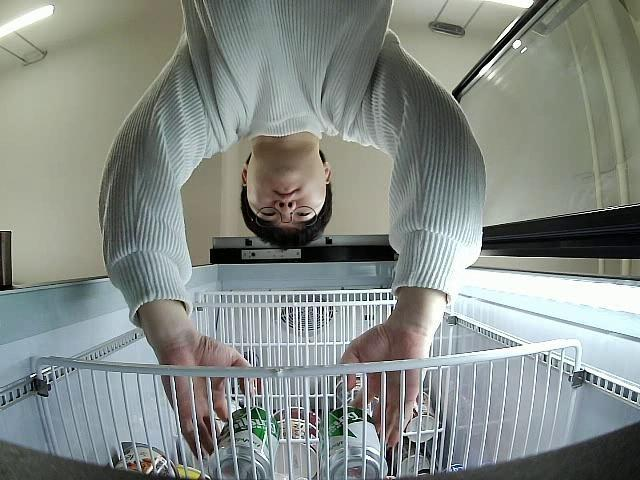12_chilsungCider: (205, 405, 282, 480), (319, 405, 388, 480)
